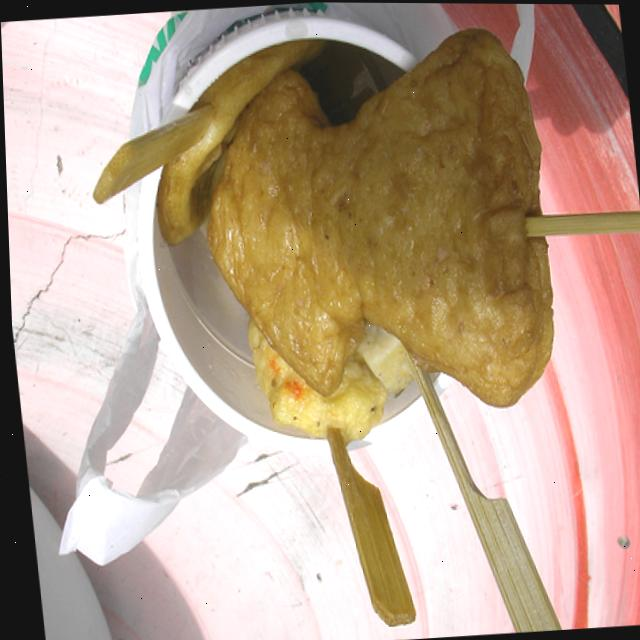汤锅炖物: (138, 23, 571, 447)
